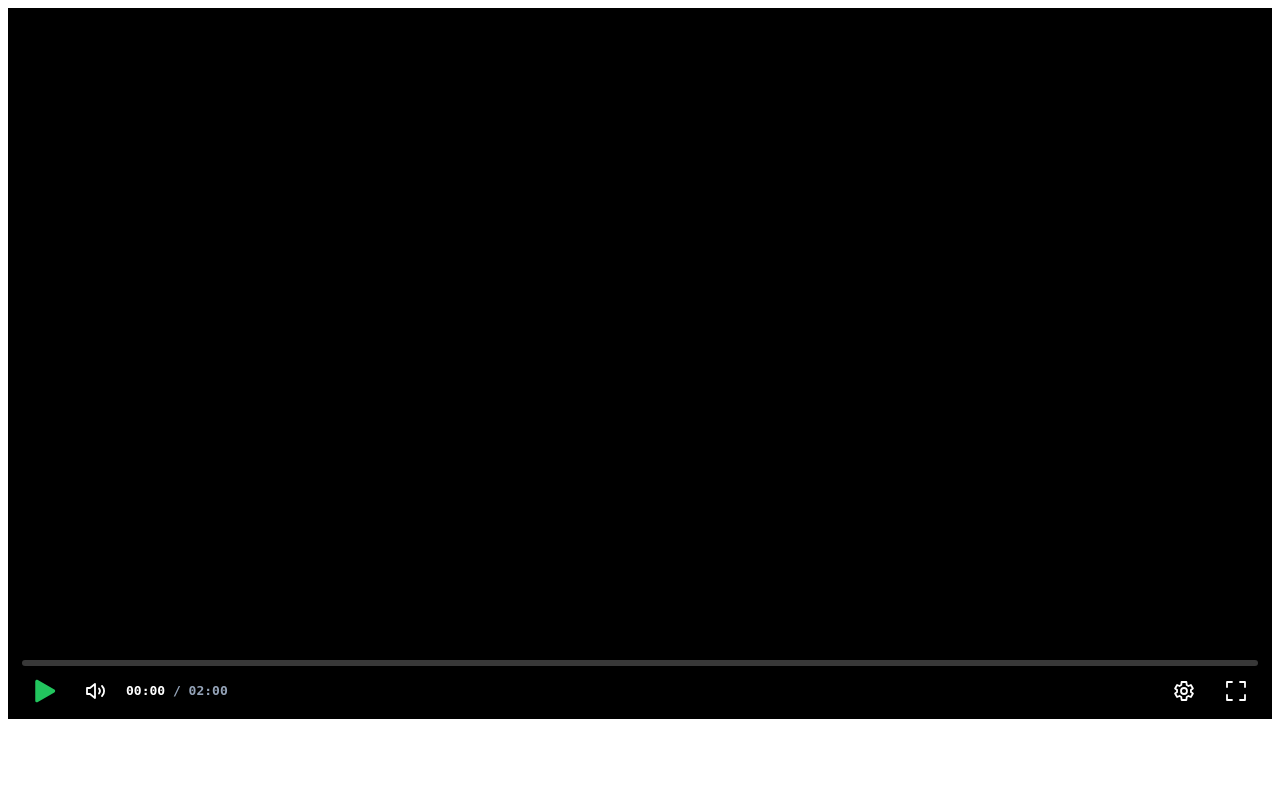
Test: LibmediaPlayer › opens video information from the surface context menu without exposing raw stats
Right-click the element with class "libmedia-player-core__surface" at (640, 364), box [8,8,1272,719]
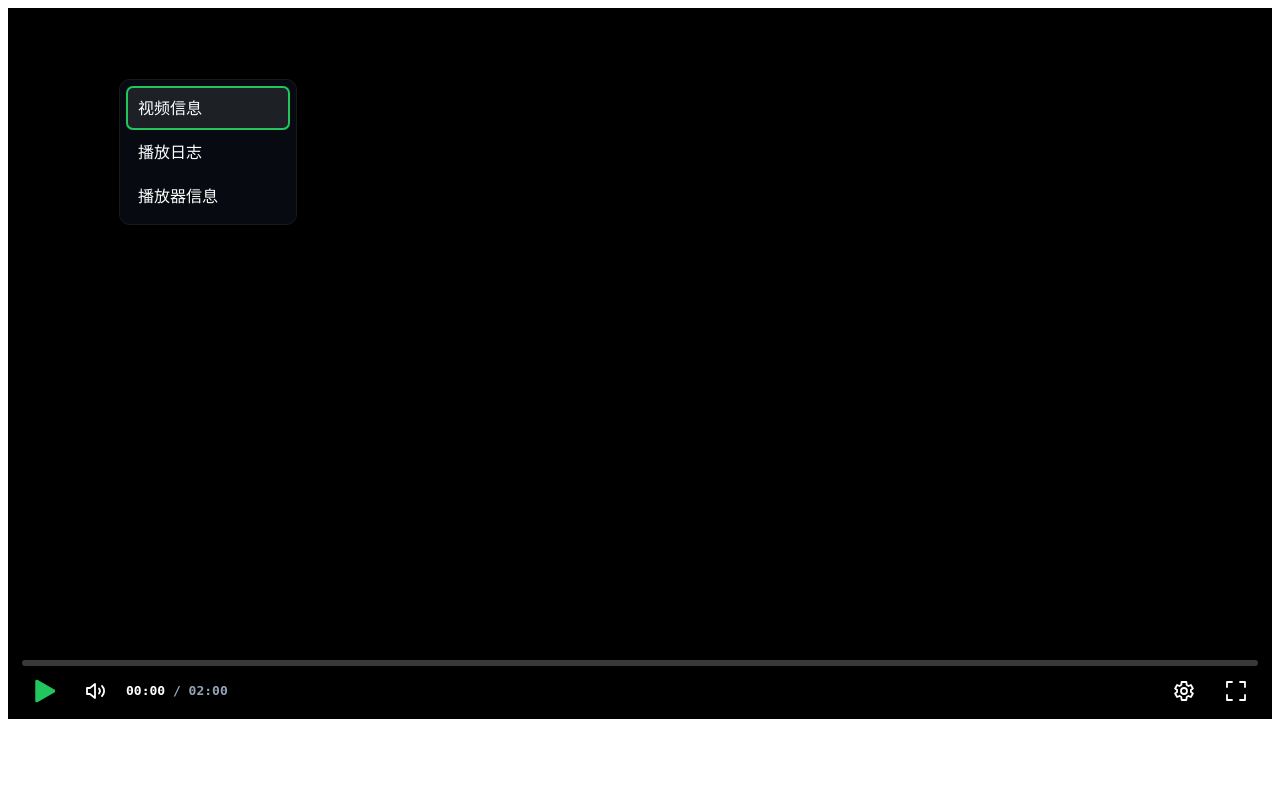
Expected: the number of menu items is 3
Click the menu item "视频信息" at (208, 108), box [126,86,290,130]
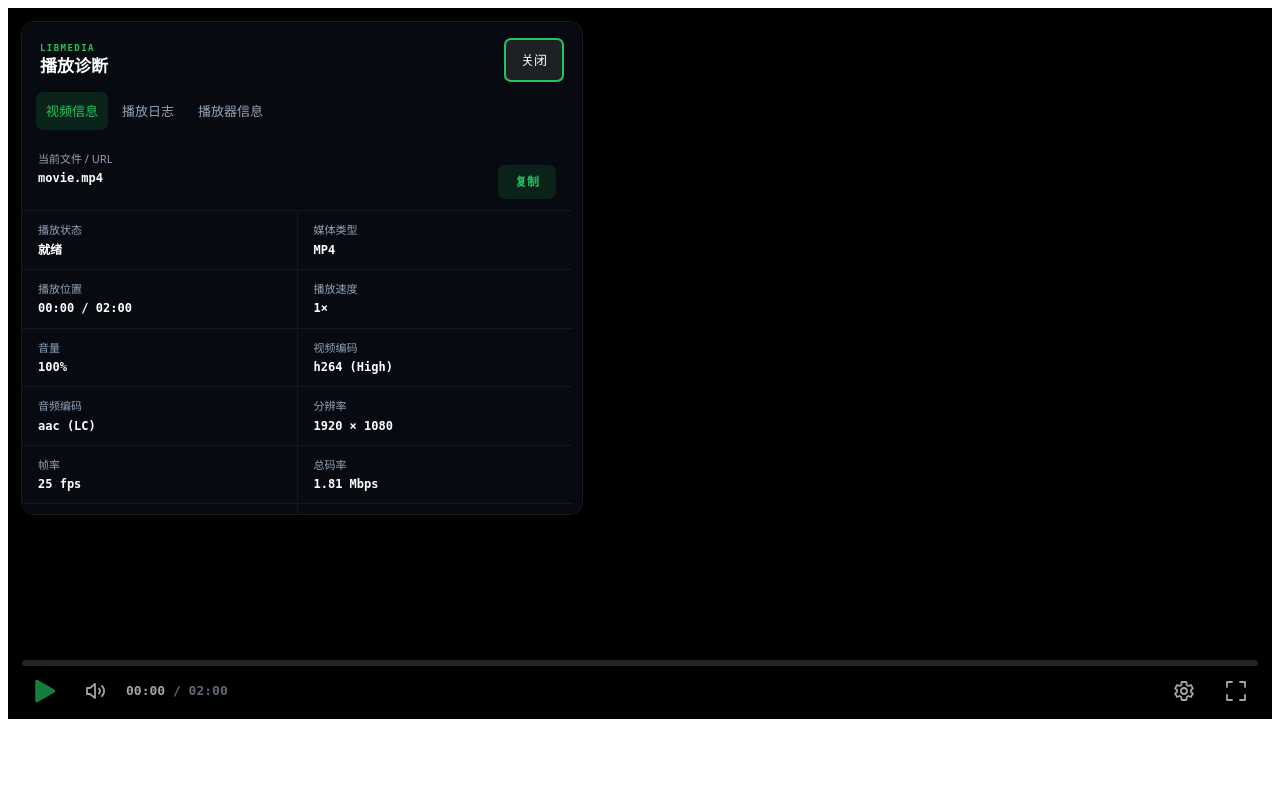
Expected: the dialog with class "libmedia-diagnostics" shows "h264 (High)", [314,360,393,374]
Expected: the dialog with class "libmedia-diagnostics" shows "aac (LC)", [38,418,96,432]
Expected: the dialog with class "libmedia-diagnostics" shows "1920 × 1080", [314,418,393,432]
